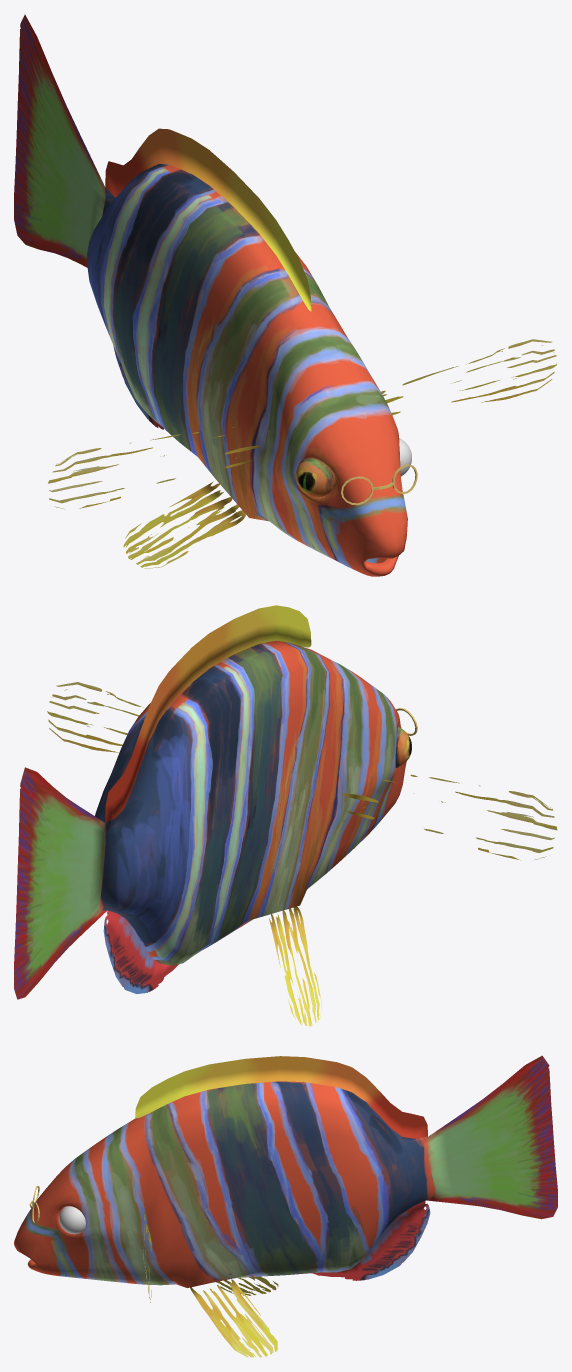
File: Scientish.fbx
3 renders of one model, top to bottom at view 1: azimuth 30°, elevation 25°; view 2: azimuth 150°, elevation 25°; view 3: azimuth 270°, elevation 25°, orthographic. The views are drawn at different scales.
Parts seen in each view (by area): view 1: Cube, Cube.001, Sphere; view 2: Cube, Cube.001, Sphere; view 3: Cube, Cube.001, Sphere.001.
Part boxes in pixels (<box>): Cube: <box>87,164,407,576</box>; Cube.001: <box>14,14,556,568</box>; Sphere: <box>295,458,334,497</box>; Cube: <box>95,640,406,965</box>; Cube.001: <box>14,605,557,1026</box>; Sphere: <box>395,727,411,767</box>; Cube: <box>14,1081,435,1287</box>; Cube.001: <box>135,1055,557,1357</box>; Sphere.001: <box>59,1206,85,1234</box>.
Bounding box in the file's own units: 345 × 246 × 448.
Materials: 4 (4 with a texture image).
